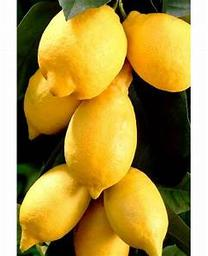lemon: (37, 5, 127, 98), (64, 88, 136, 201), (19, 164, 91, 251), (104, 166, 170, 255), (121, 11, 191, 93)
